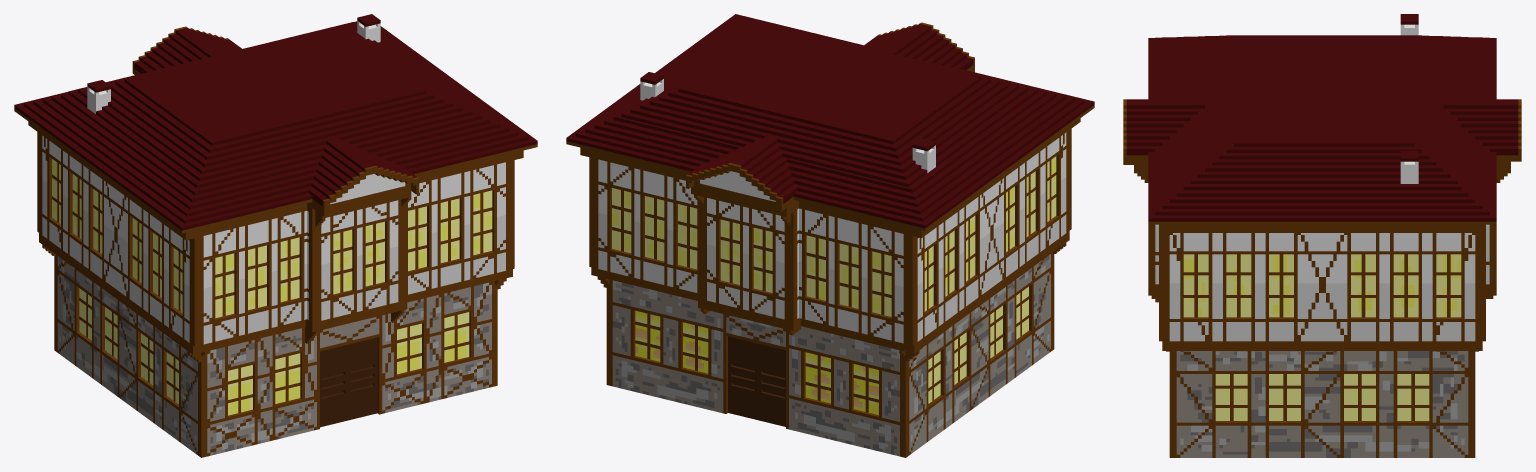
3 views of the same model, side by side, from view 1: azimuth 30°, elevation 25°; view 2: azimuth 150°, elevation 25°; view 3: azimuth 270°, elevation 25° (orthographic). The views are drawn at different scales.
Parts seen in each view (by area): view 1: VOX; view 2: VOX; view 3: VOX.
Boxes of the visible parts, x1,y1,x2,y2 form: VOX: (14,14,537,457); VOX: (566,14,1094,457); VOX: (1123,14,1521,457).
Size of the model in its own units: 0.12 by 0.092 by 0.112.
